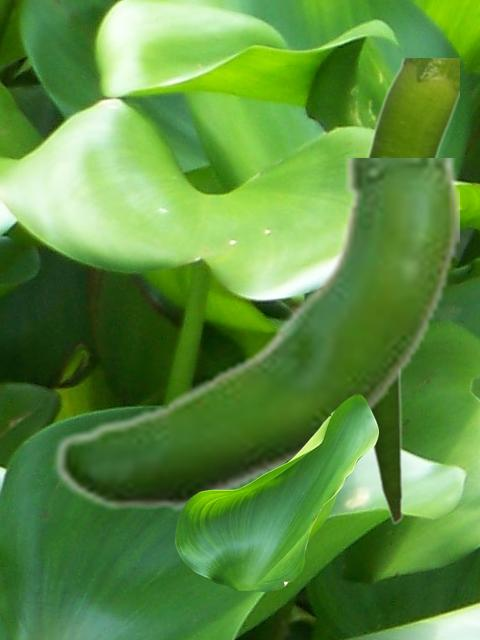green_chili: (52, 158, 458, 513), (363, 58, 458, 523)
